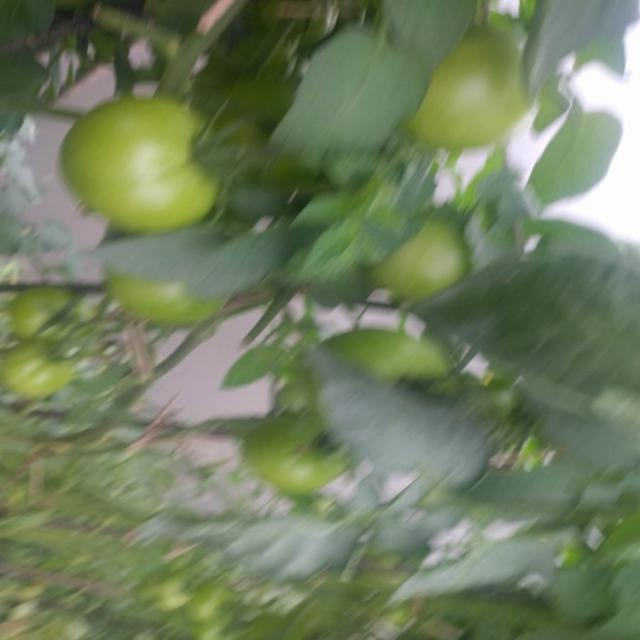tomato: (50, 92, 219, 220), (390, 15, 546, 145), (322, 318, 472, 402), (233, 410, 361, 507), (378, 213, 488, 304), (107, 272, 230, 334), (10, 277, 91, 343), (1, 343, 69, 400), (155, 573, 195, 623)
